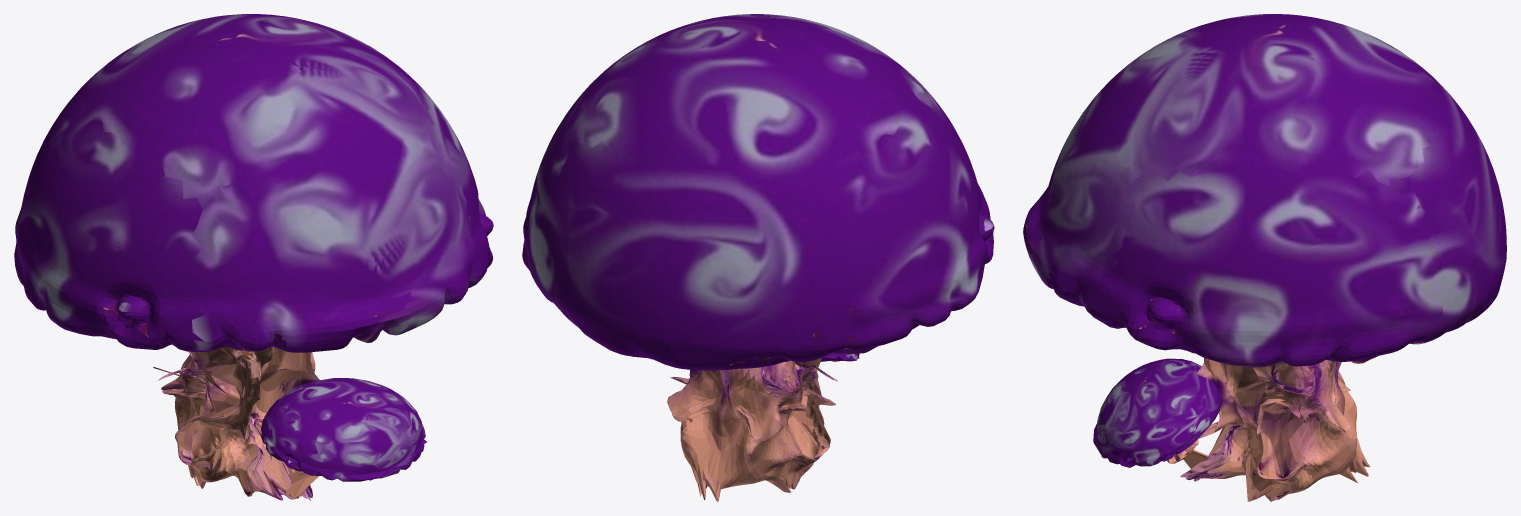
Rendered from mushroom.obj.
The picture shows the model from 3 angles, left to right: view 1: azimuth 30°, elevation 25°; view 2: azimuth 150°, elevation 25°; view 3: azimuth 270°, elevation 25°; orthographic projection.
Visible parts, largest first — view 1: Mushroom1, Mushroom1.001; view 2: Mushroom1; view 3: Mushroom1, Mushroom1.001.
Boxes of the visible parts, <box> form: Mushroom1: <box>14,14,493,500</box>; Mushroom1.001: <box>261,378,426,499</box>; Mushroom1: <box>522,14,994,501</box>; Mushroom1: <box>1023,14,1506,501</box>; Mushroom1.001: <box>1093,358,1221,468</box>.
Size of the model in its own units: 2.06 by 2.11 by 2.07.
